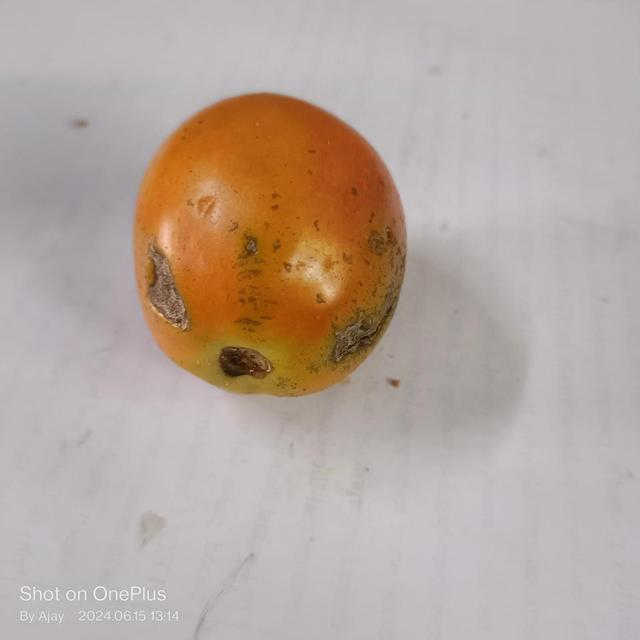Bacterial Spot Fruit: (18, 20, 242, 198)
